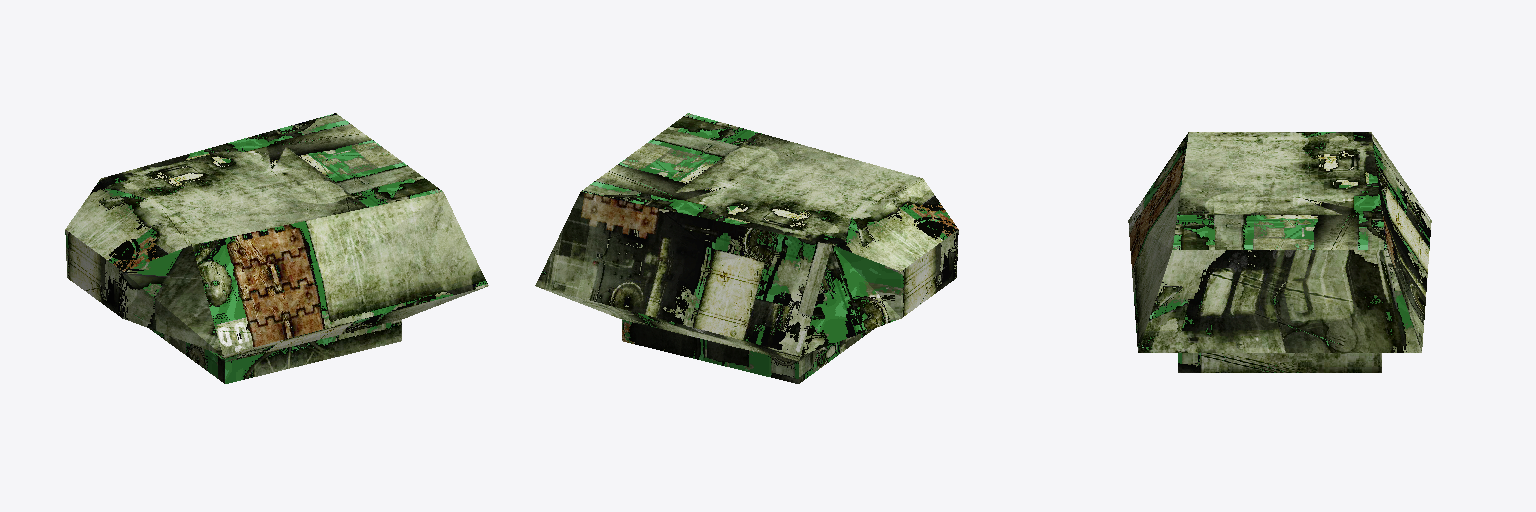
The picture shows the model from 3 angles: view 1: azimuth 30°, elevation 25°; view 2: azimuth 150°, elevation 25°; view 3: azimuth 270°, elevation 25°; orthographic projection.
Visible parts, largest first — view 1: Cube.001_Cube.002; view 2: Cube.001_Cube.002; view 3: Cube.001_Cube.002.
Part boxes in pixels (x1,y1,x2,y2): Cube.001_Cube.002: (65, 113, 488, 383); Cube.001_Cube.002: (535, 113, 958, 383); Cube.001_Cube.002: (1128, 132, 1431, 372).
Bounding box in the file's own units: 3.65 × 1.53 × 2.97.
Materials: 1 (1 with a texture image).